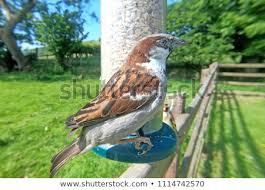home_sparrow: (42, 28, 192, 183)
